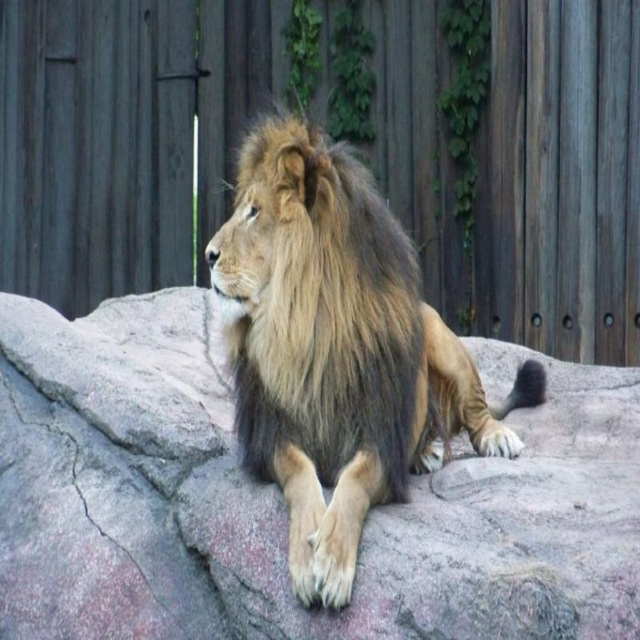Lion: (205, 86, 549, 611)
